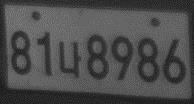1: (36, 30, 53, 76)
6: (162, 36, 187, 84)
8: (135, 37, 161, 82), (85, 34, 109, 80), (9, 29, 32, 76)
9: (111, 35, 135, 82)
나: (57, 39, 83, 78)
